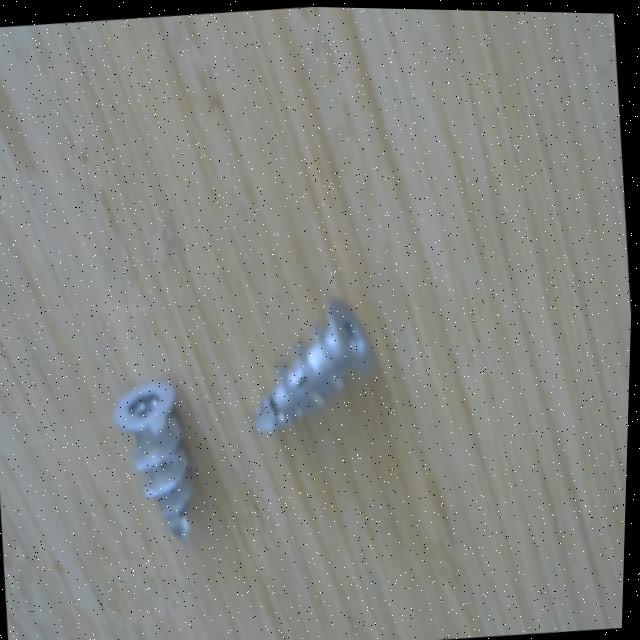Short screw: (240, 280, 391, 452), (106, 362, 209, 560)
